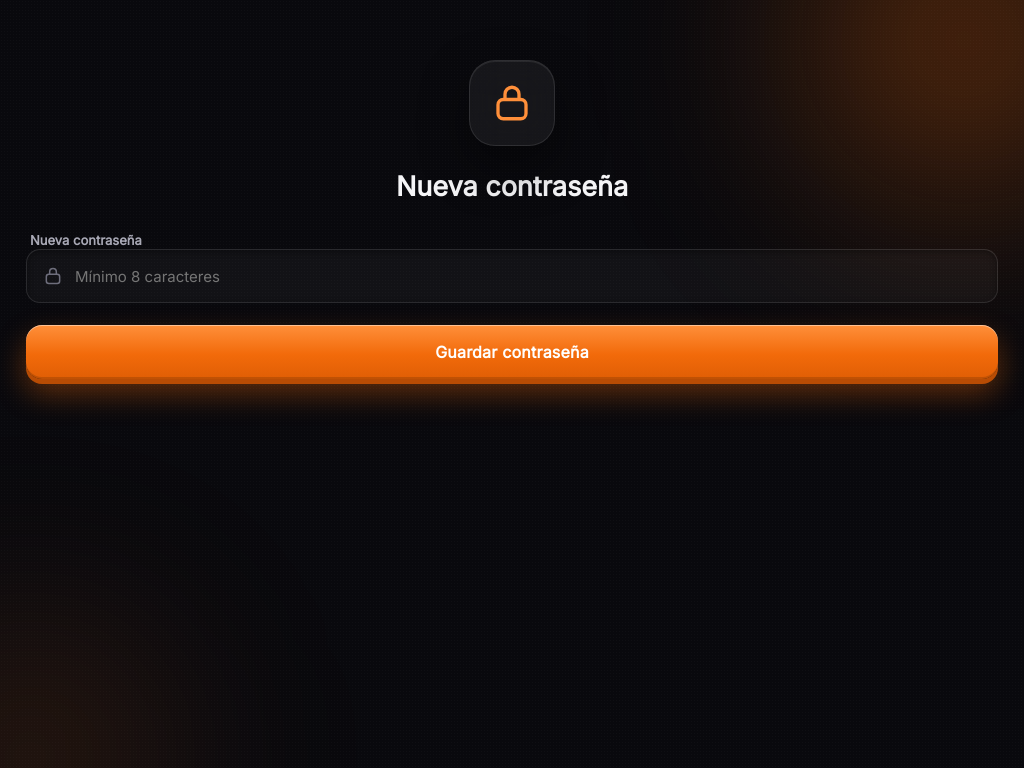
Test: restablecer con token inválido ofrece pedir otro enlace
Type "otraClave99" into the password field labelled "Nueva contraseña" at (528, 276), box [75, 266, 981, 286]
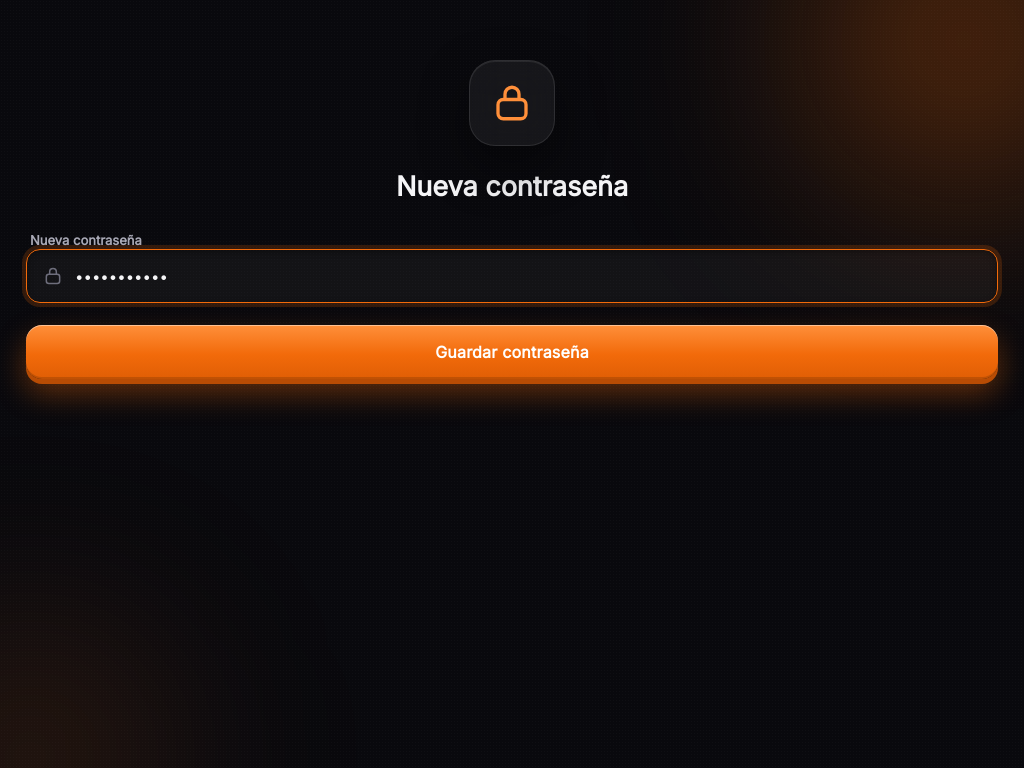
Click the button "Guardar contraseña" at (512, 352), box [26, 325, 998, 379]
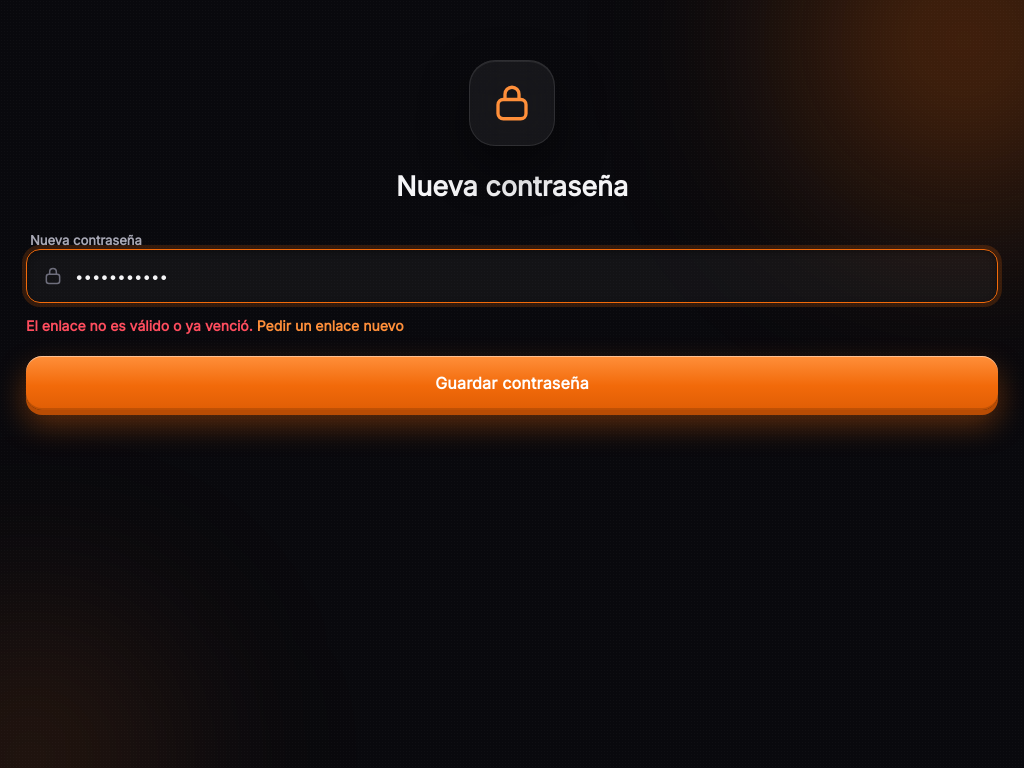
Check: the text "El enlace no es válido o ya venció." is shown, box [26, 317, 253, 334]
